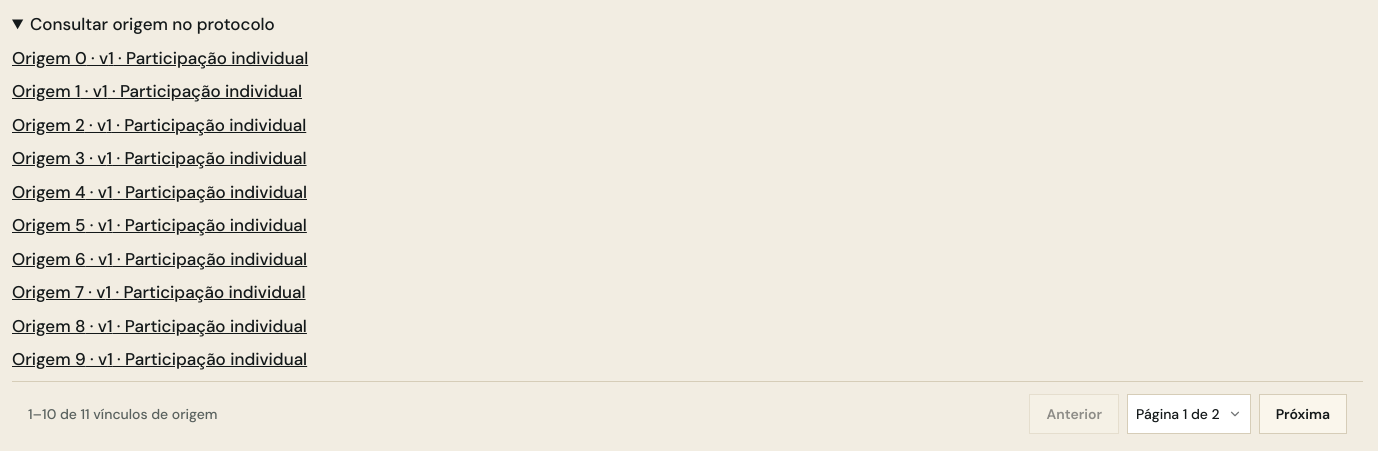
pagina vínculos de origem em dez registros mantendo o fato e o sítio
Expected: the text "1–10 de 11 vínculos de origem" is shown, [28, 404, 218, 424]
Click the button "Próxima" at (1303, 414), box [1259, 394, 1347, 434]
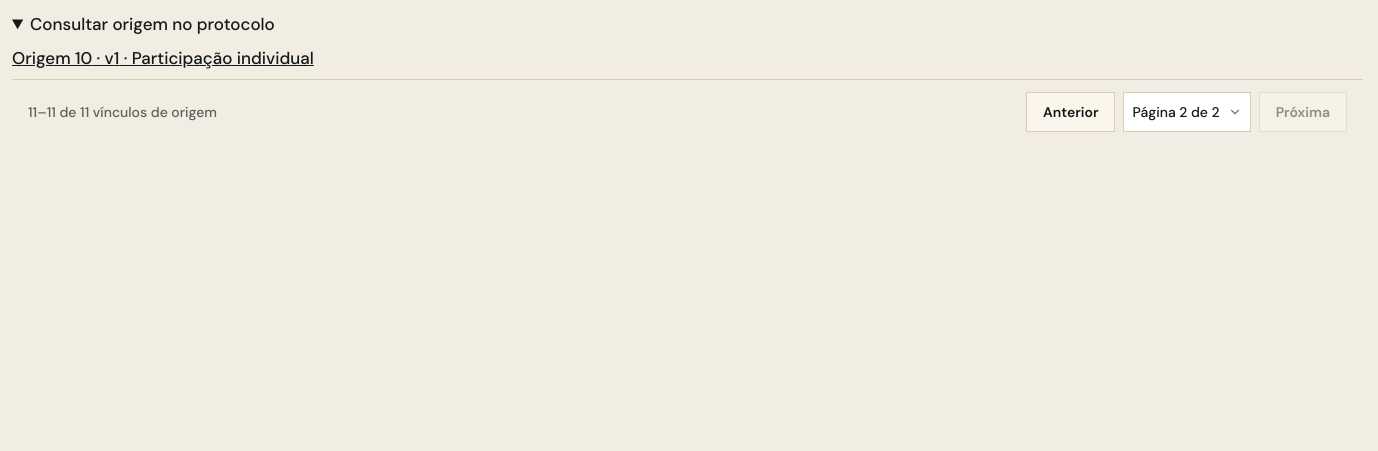
Expected: the text "11–11 de 11 vínculos de origem" is shown, [28, 102, 217, 122]
Expected: the number of links is 1, [12, 46, 314, 68]
